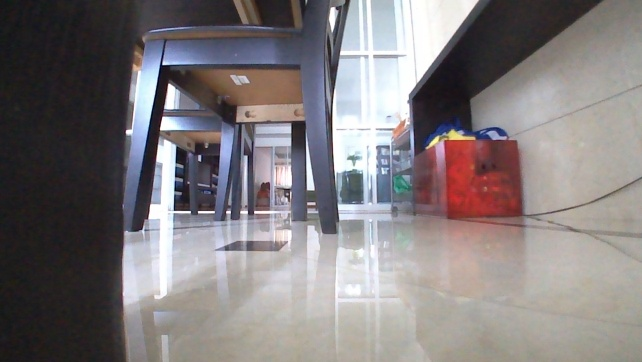dining_table1: (0, 0, 351, 361)
wire: (523, 174, 641, 219)
